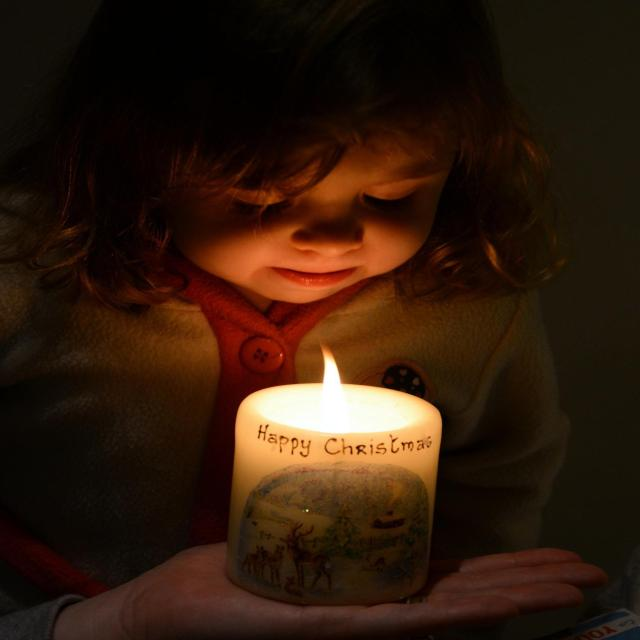Fire_Save: (224, 343, 444, 606)
